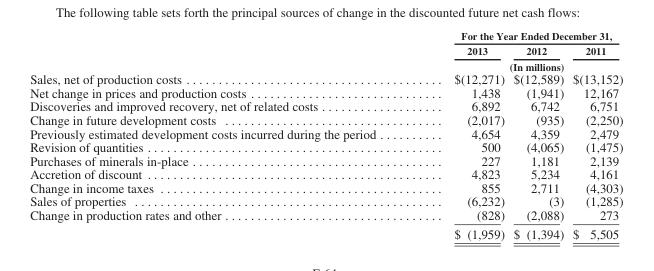table: (29, 29, 622, 240)
table column: (29, 29, 414, 240), (414, 29, 508, 240), (508, 29, 567, 240), (567, 29, 622, 240)
table column header: (29, 29, 622, 71)
table row: (29, 223, 622, 240), (29, 42, 622, 58), (29, 207, 622, 223), (29, 71, 622, 85), (29, 85, 622, 99), (29, 112, 622, 126), (29, 139, 622, 153), (29, 153, 622, 167), (29, 180, 622, 194), (29, 29, 622, 42), (29, 58, 622, 71), (29, 99, 622, 112), (29, 126, 622, 139), (29, 167, 622, 180), (29, 194, 622, 207)
table spanning cell: (414, 29, 622, 42), (414, 58, 622, 71)
